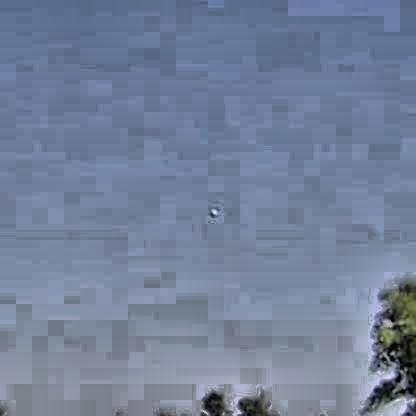golfball: (207, 207, 215, 215)
